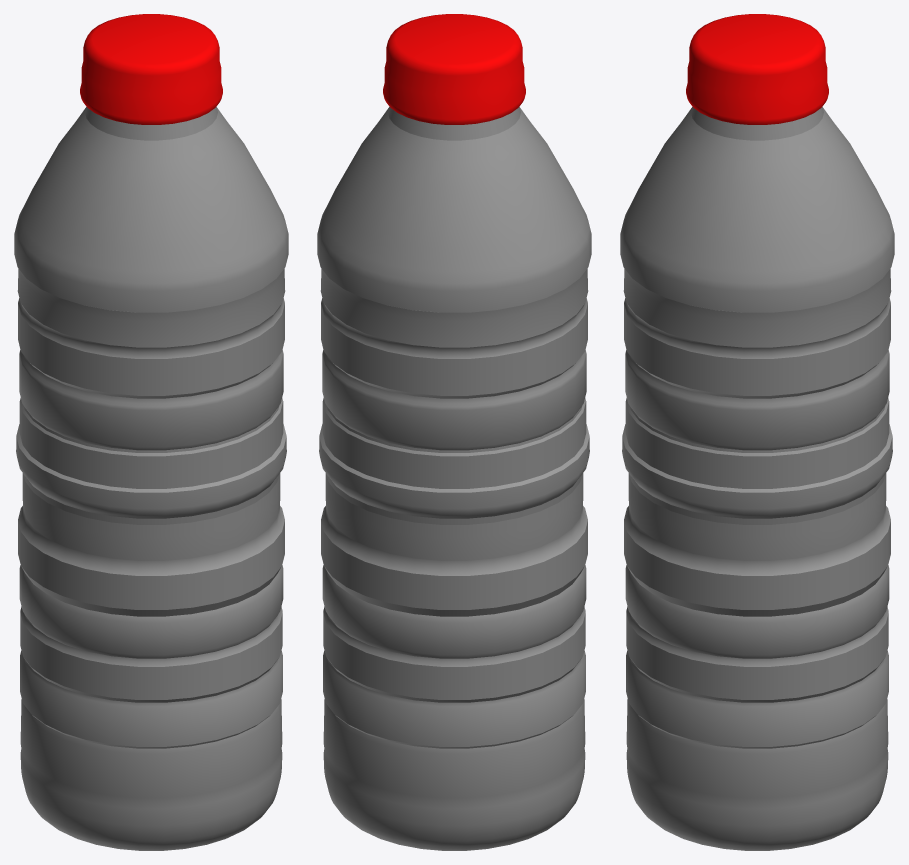
The model's file is WaterBottle.fbx.
The picture shows the model from 3 angles, left to right: view 1: azimuth 30°, elevation 25°; view 2: azimuth 150°, elevation 25°; view 3: azimuth 270°, elevation 25°; orthographic projection.
Visible parts, largest first — view 1: Bouteille; view 2: Bouteille; view 3: Bouteille.
Part boxes in pixels (bbox=[...]): Bouteille: bbox=[14, 14, 288, 850]; Bouteille: bbox=[317, 14, 591, 850]; Bouteille: bbox=[620, 14, 894, 850].
Size of the model in its own units: 9.22 by 28.99 by 9.27.
